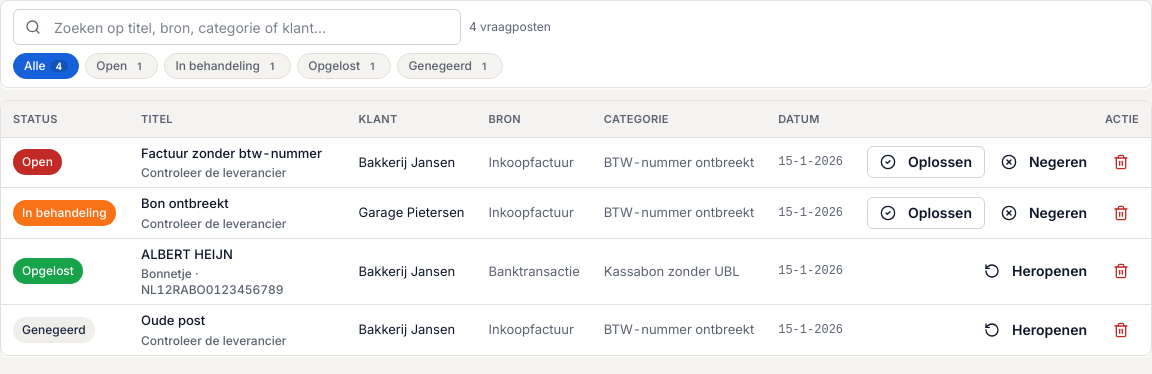
Test: Vraagposten overzicht › filtert op status In behandeling
Click the button "In behandeling 1". click: [228, 66]
box: [164,53,291,79]
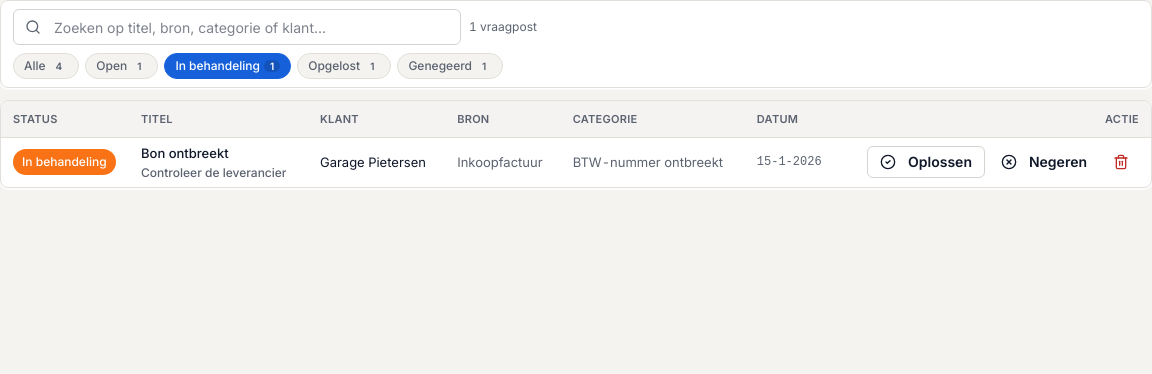
Expected: the text "Bon ontbreekt" is shown, [141,144,229,160]
Expected: the number of rows is 2, [1,101,1151,137]; [1,137,1151,187]
